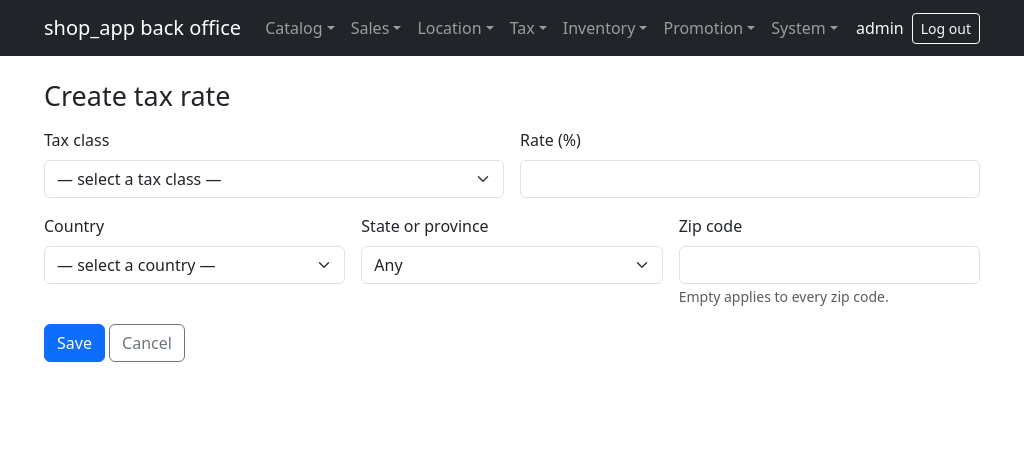
Test: Tax rates › form › refuses a rate above 100 or with more than 4 decimals
Step 1. Select "Standard" in the dropdown labelled "Tax class" → (274, 179), box [44,160,504,198]
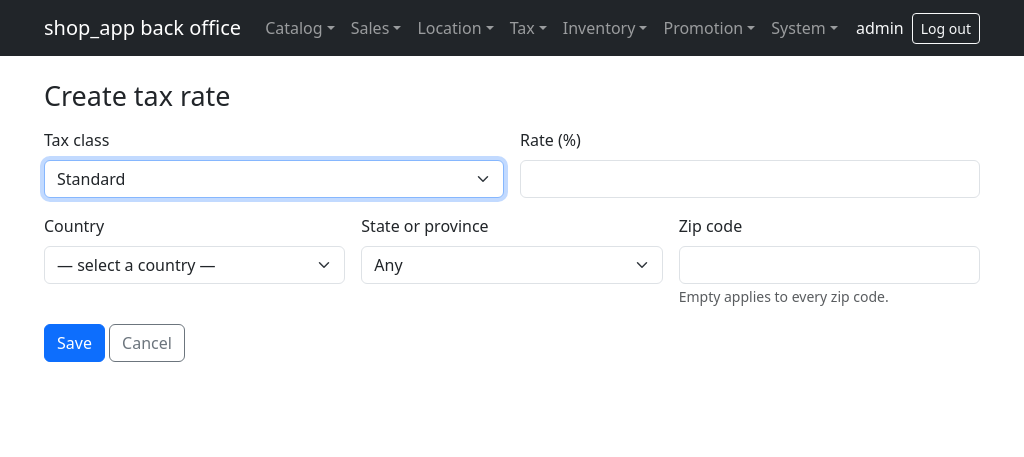
Step 2. Select "United States" in the dropdown labelled "Country" → (195, 265), box [44,246,345,284]
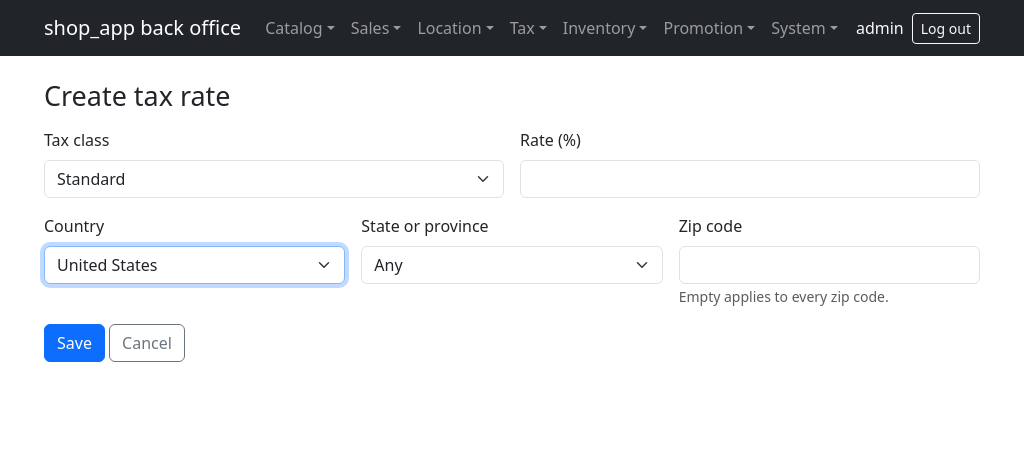
Step 3. Type "1.23456" into the field labelled "Rate (%)" → (750, 179), box [520,160,980,198]
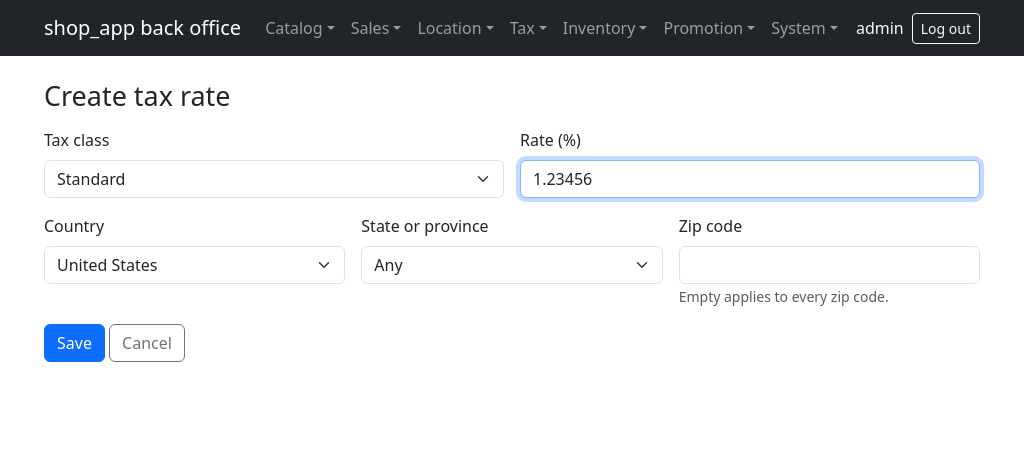
Step 4. Click the button "Save" → (74, 343), box [44,324,105,362]
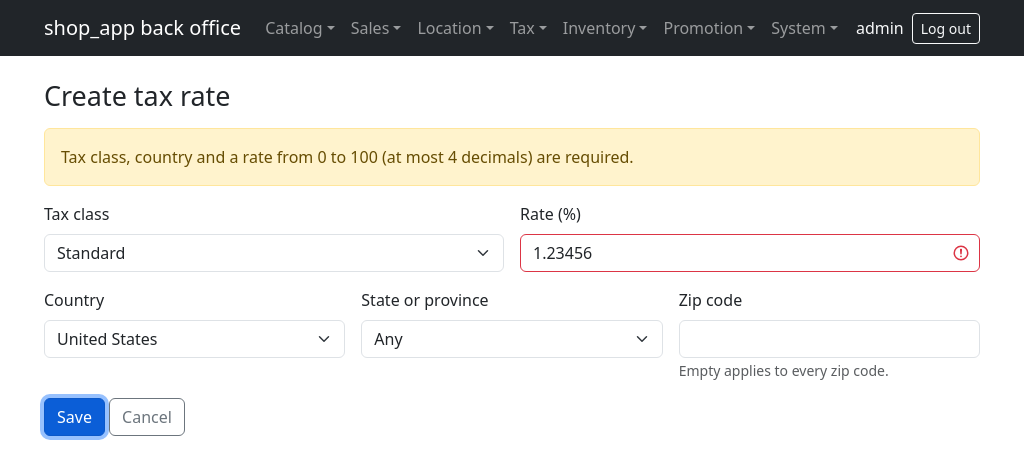
Expected: the text "Tax class, country and a rate from 0 to 100 (at most 4 decimals) are required." is shown, [44,128,980,186]
